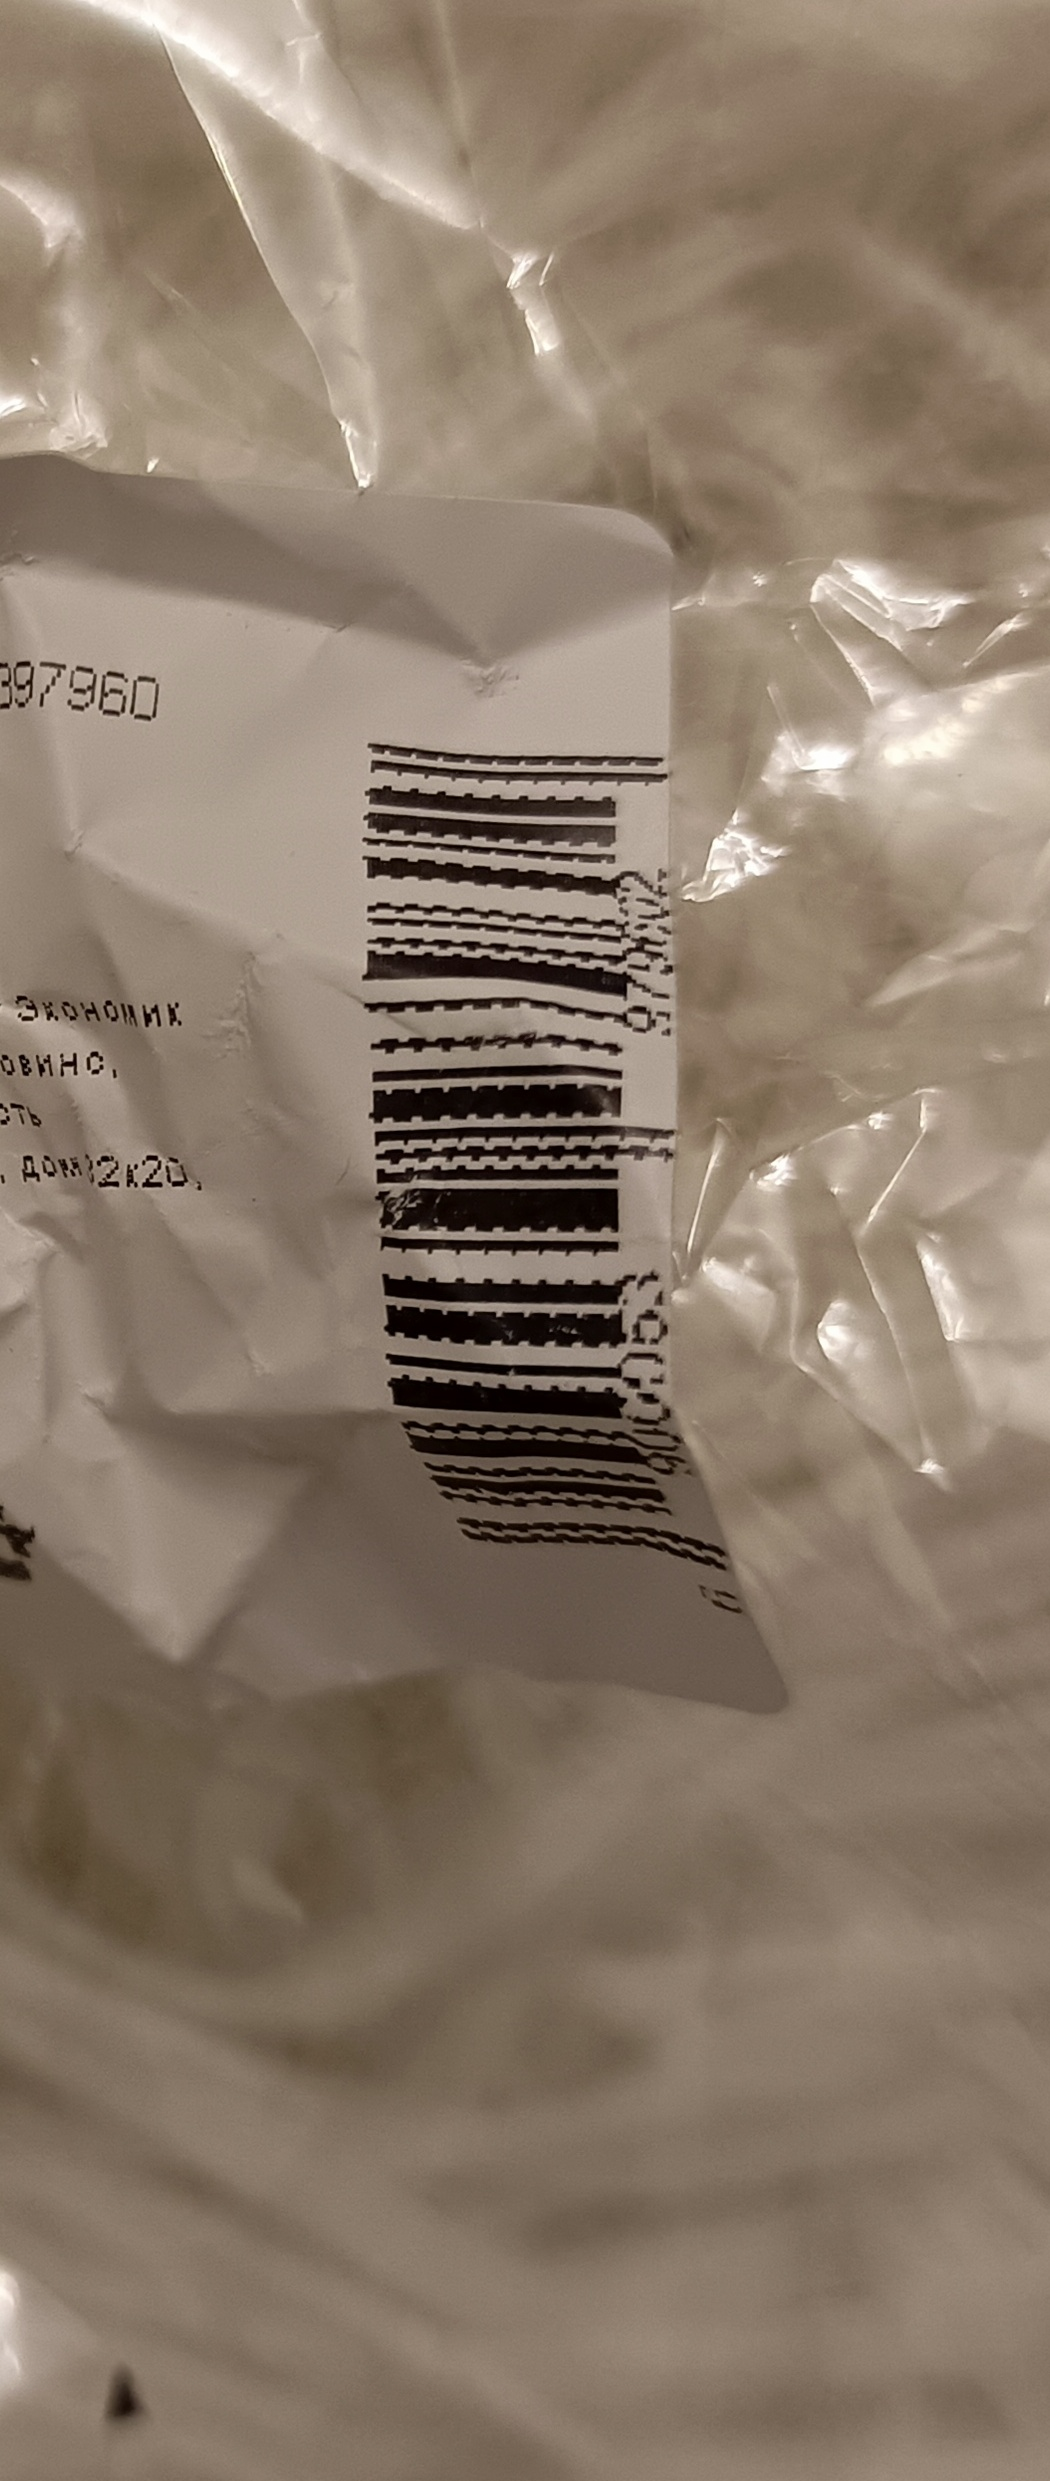1d: (359, 729, 682, 1560)
